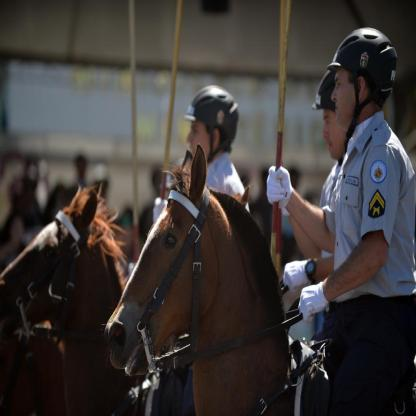Helmet: (328, 26, 399, 154), (182, 84, 240, 163), (307, 67, 337, 114)
